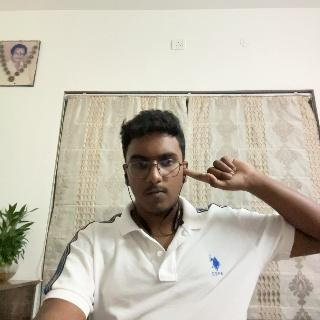Deaf: (186, 155, 271, 198)
Face: (122, 109, 188, 214)
